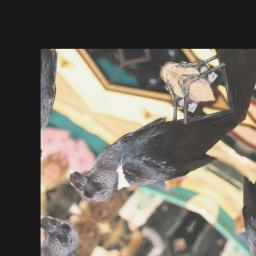Crow: (59, 57, 246, 249)
